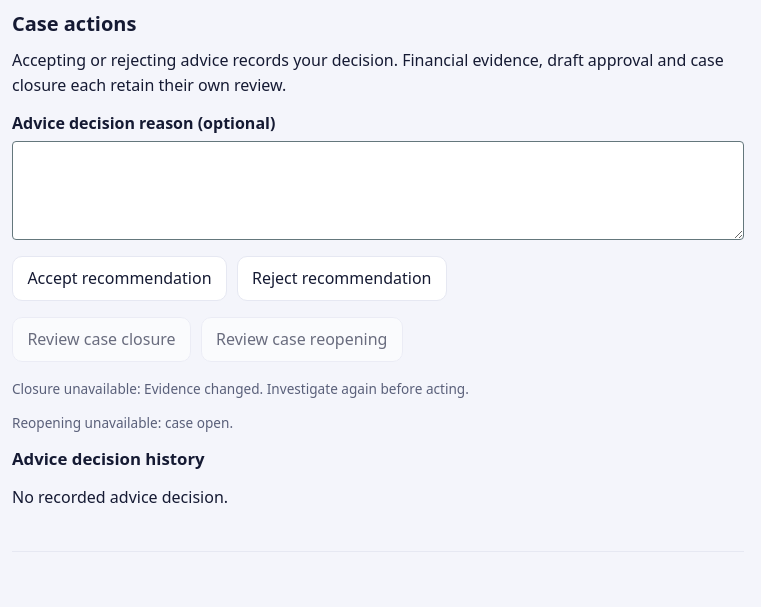
shows stale closure blocking reasons and never closes by accepting advice
expect the text "Evidence changed" is shown: met, box [144,379,465,398]
expect the button "Review case closure" is disabled: met, box [12,317,191,362]
Type "Reviewing the settlement" into the text box labelled "Advice decision reason (optional)" at point(378, 190), box [12,141,744,240]
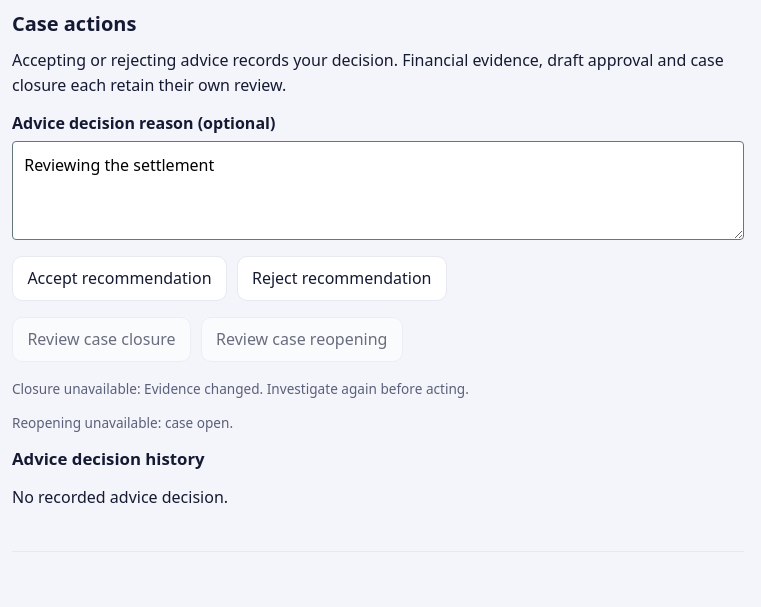
Click the button "Accept recommendation" at point(120, 278), box [12,256,227,301]
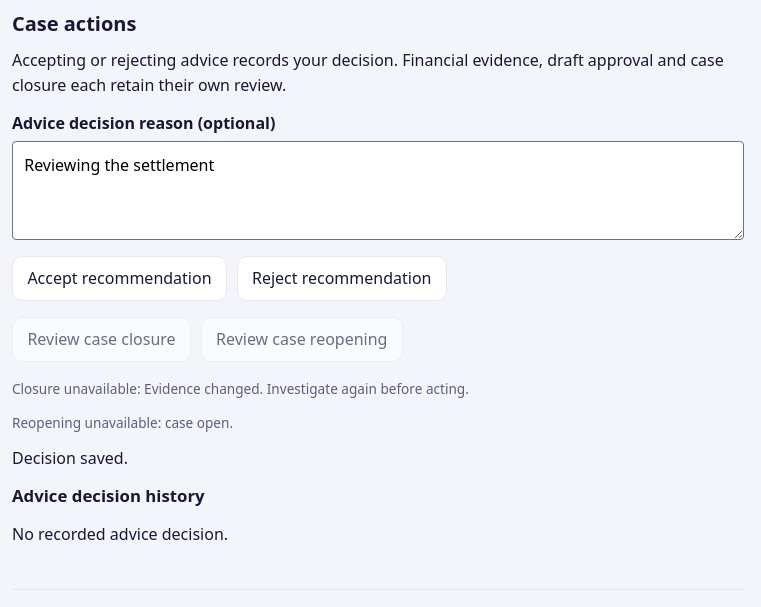
expect the text "Decision saved." is shown: met, box [12,447,128,469]
